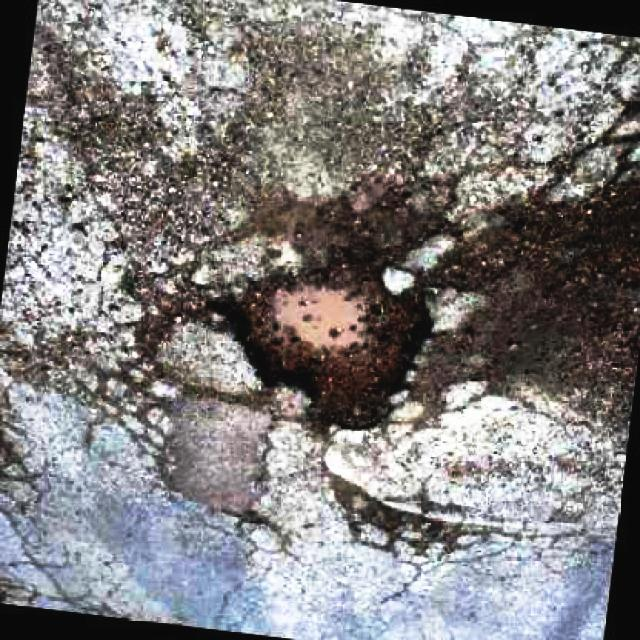pothole: (214, 243, 437, 432)
